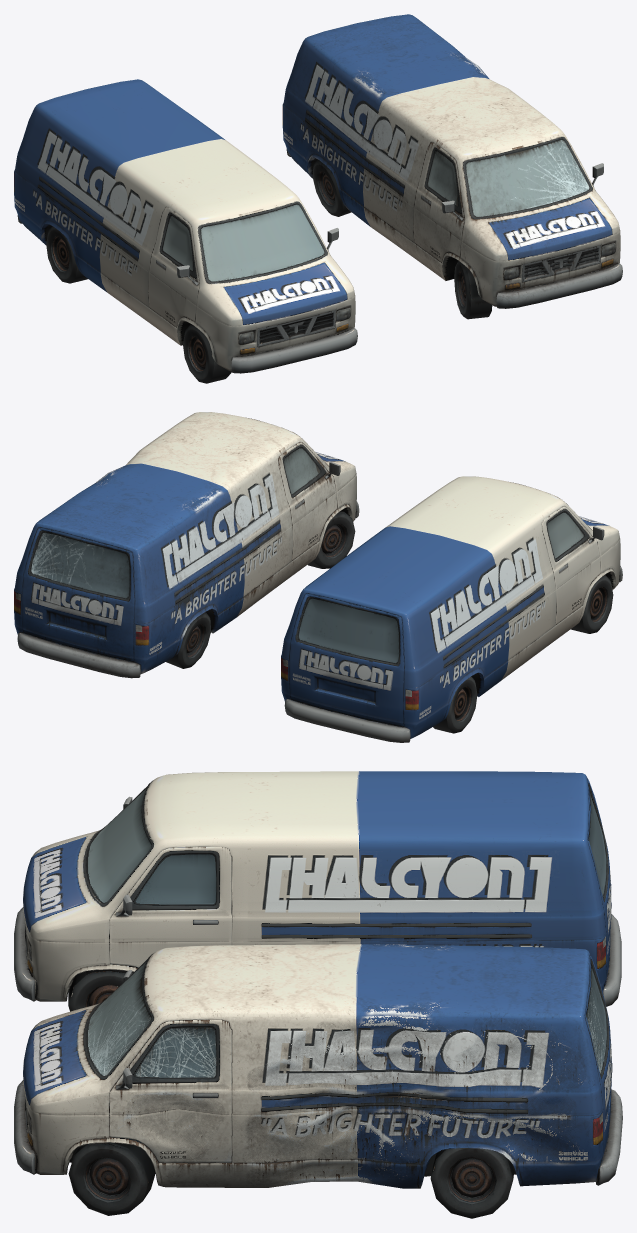
The model's file is vans.FBX.
The picture shows the model from 3 angles, top to bottom: view 1: azimuth 30°, elevation 25°; view 2: azimuth 150°, elevation 25°; view 3: azimuth 270°, elevation 25°; orthographic projection. The views are drawn at different scales.
Parts seen in each view (by area): view 1: Object016, Object017; view 2: Object017, Object016; view 3: Object017, Object016.
Boxes of the visible parts, bbox=[...] form: Object016: bbox=[14, 79, 357, 383]; Object017: bbox=[282, 14, 622, 319]; Object017: bbox=[14, 412, 359, 678]; Object016: bbox=[281, 476, 622, 742]; Object017: bbox=[14, 944, 622, 1218]; Object016: bbox=[14, 771, 621, 1011].
Size of the model in its own units: 409 by 138 by 378.
